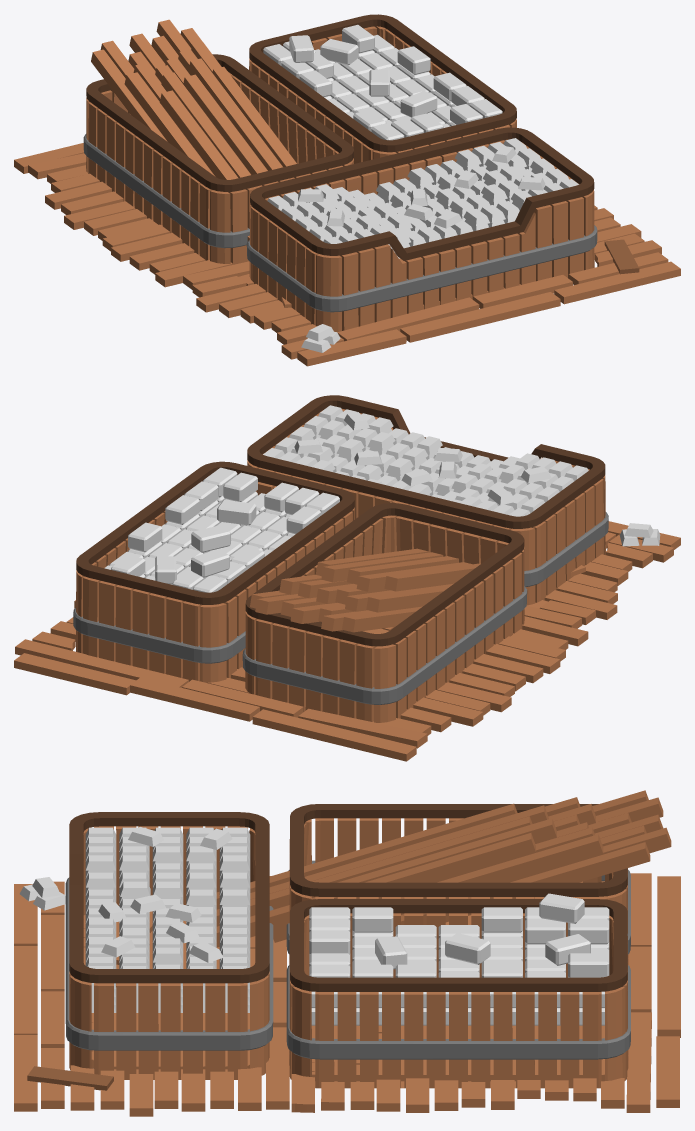
The model's file is Deposito4.fbx.
The picture shows the model from 3 angles, top to bottom: view 1: azimuth 30°, elevation 25°; view 2: azimuth 150°, elevation 25°; view 3: azimuth 270°, elevation 25°; orthographic projection. The views are drawn at different scales.
Parts seen in each view (by area): view 1: Legname, LingottiSparsi; view 2: Legname, LingottiSparsi; view 3: Legname, LingottiSparsi.
Boxes of the visible parts, x1,y1,x2,y2 form: Legname: [14, 14, 680, 366]; LingottiSparsi: [301, 324, 340, 352]; Legname: [14, 395, 680, 761]; LingottiSparsi: [619, 523, 660, 546]; Legname: [14, 790, 680, 1116]; LingottiSparsi: [19, 877, 65, 910].
Size of the model in its own units: 498 by 134 by 575.
